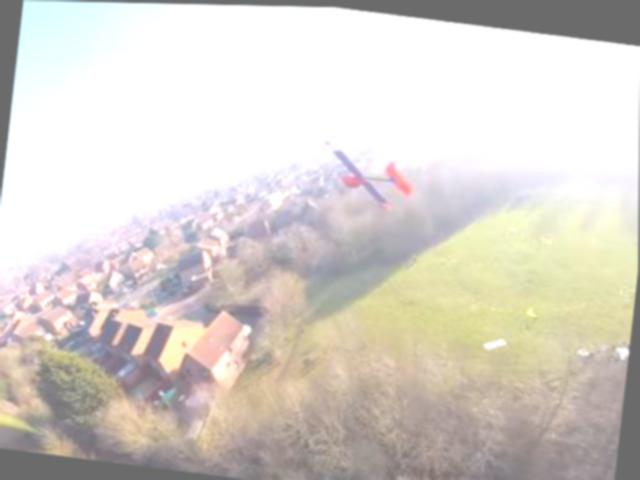uav: (303, 124, 429, 231)
